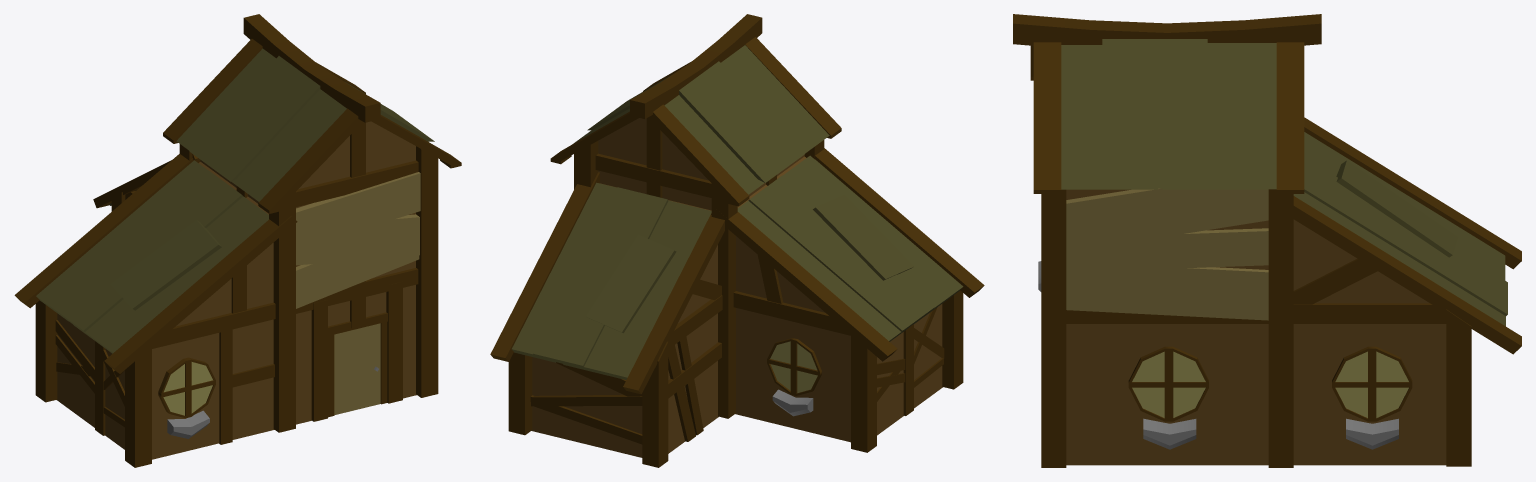
Rendered from Mesh_Farm_Large.fbx.
3 views of the same model, side by side, from view 1: azimuth 30°, elevation 25°; view 2: azimuth 150°, elevation 25°; view 3: azimuth 270°, elevation 25° (orthographic). The views are drawn at different scales.
Visible parts, largest first — view 1: Farm_Large; view 2: Farm_Large; view 3: Farm_Large.
Part boxes in pixels (x1=…): Farm_Large: x1=14, y1=14, x2=461, y2=467; Farm_Large: x1=490, y1=14, x2=984, y2=467; Farm_Large: x1=1013, y1=14, x2=1521, y2=467.
Bounding box in the file's own units: 957 × 841 × 961.
Materials: 1 (1 with a texture image).
